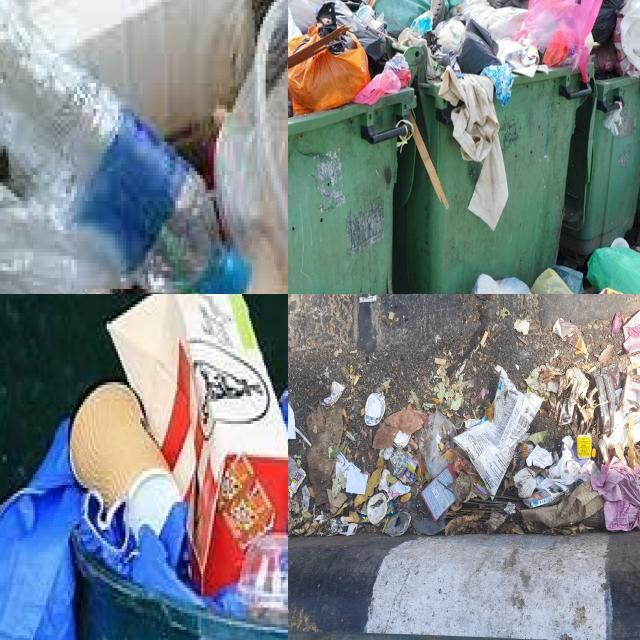Background: (288, 294, 640, 537)
Cig_bud: (341, 511, 360, 522), (480, 330, 489, 346), (435, 358, 446, 365), (353, 376, 359, 385)
Cig_pack: (523, 482, 569, 508), (620, 374, 640, 413)
Disposable: (27, 0, 254, 135), (216, 0, 288, 283)
Garbage: (0, 294, 288, 640), (288, 0, 640, 229)
Plastic_Bag: (0, 182, 122, 294), (288, 35, 371, 113), (419, 411, 456, 478), (288, 24, 322, 54)
Plastic_bottle: (238, 534, 288, 624)
Plastic_wraper: (453, 365, 544, 496), (592, 363, 623, 434), (400, 452, 419, 484), (512, 443, 534, 469), (289, 469, 306, 495), (473, 480, 489, 498)
Tetrapack: (108, 294, 288, 593)
